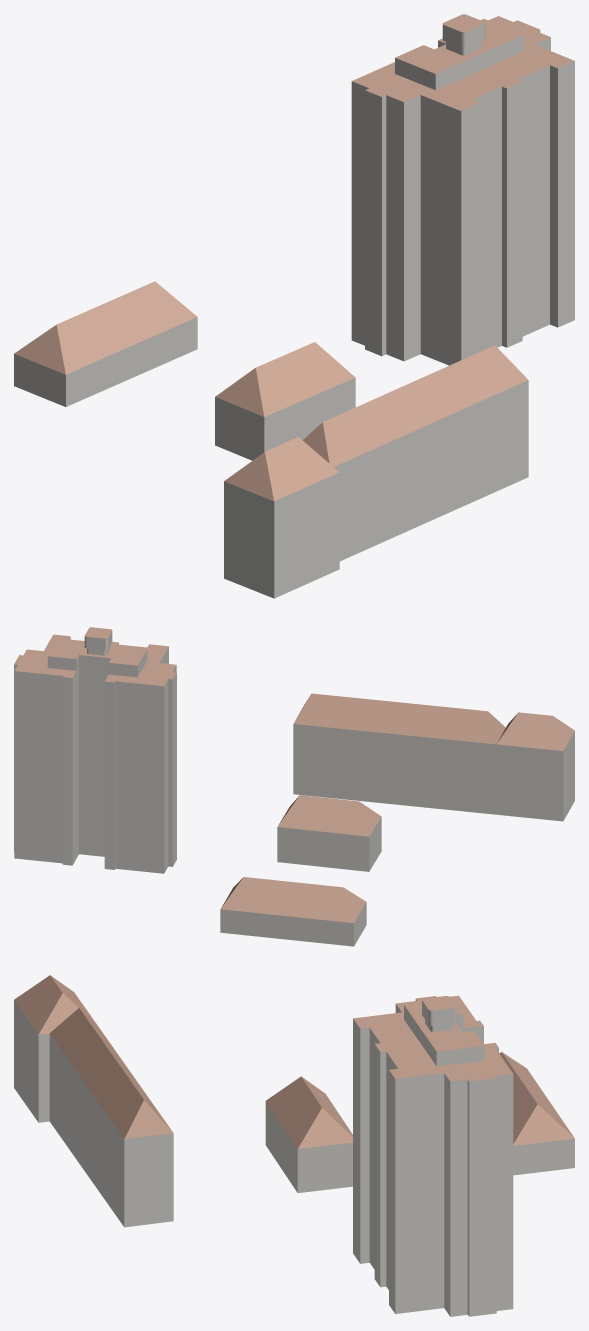
File: gridID_38.dae
The picture shows the model from 3 angles, top to bottom: view 1: azimuth 30°, elevation 25°; view 2: azimuth 150°, elevation 25°; view 3: azimuth 270°, elevation 25°; orthographic projection. The views are drawn at different scales.
Parts seen in each view (by area): view 1: model_gridID_38_w376378534, model_gridID_38_w376378570, model_gridID_38_w376378570_002, model_gridID_38_w376378590, model_gridID_38_w376378565; view 2: model_gridID_38_w376378534, model_gridID_38_w376378570, model_gridID_38_w376378590, model_gridID_38_w376378570_002, model_gridID_38_w376378565; view 3: model_gridID_38_w376378534, model_gridID_38_w376378570, model_gridID_38_w376378565, model_gridID_38_w376378570_002, model_gridID_38_w376378590.
Boxes of the visible parts, <box> form: model_gridID_38_w376378534: <box>351,14,574,365</box>; model_gridID_38_w376378570: <box>302,345,528,561</box>; model_gridID_38_w376378570_002: <box>224,437,339,598</box>; model_gridID_38_w376378590: <box>14,281,197,406</box>; model_gridID_38_w376378565: <box>215,342,355,460</box>; model_gridID_38_w376378534: <box>14,627,176,873</box>; model_gridID_38_w376378570: <box>293,693,505,814</box>; model_gridID_38_w376378590: <box>220,877,366,946</box>; model_gridID_38_w376378570_002: <box>496,712,574,821</box>; model_gridID_38_w376378565: <box>277,795,381,871</box>; model_gridID_38_w376378534: <box>353,995,513,1316</box>; model_gridID_38_w376378570: <box>49,1008,173,1227</box>; model_gridID_38_w376378565: <box>265,1076,352,1192</box>; model_gridID_38_w376378570_002: <box>14,975,97,1122</box>; model_gridID_38_w376378590: <box>499,1052,574,1175</box>.
Size of the model in its own units: 86.31 by 86.49 by 46.32.
